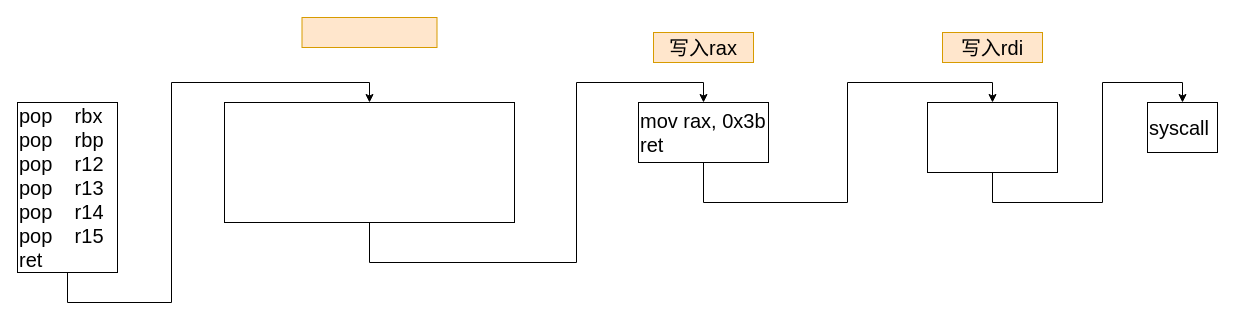
Image size: 1235x328. Some labels were removed from this diagram. Each missing label, with the centre of its shape:
mov rdx,r13 mov rsi,r14 mov edi,r15d call QWORD PTR [r12+rbx*8]: (x=369, y=162)
pop rdi ret: (x=992, y=137)
写入rdx、rsi: (x=369, y=32)
